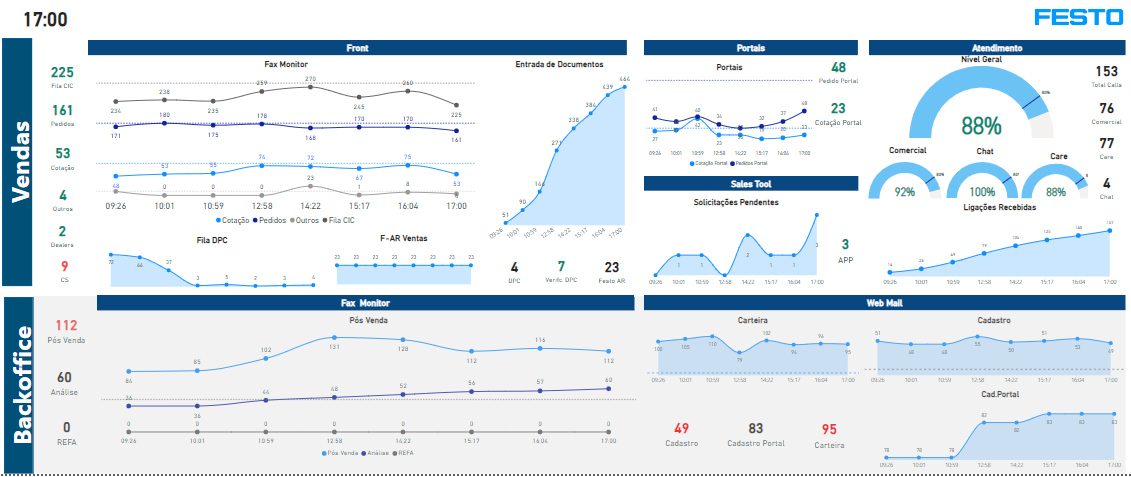

This screenshot's page, from the dashboard's own definition file:
{"tool":"powerbi","page":{"name":"Fila de Hora em Hora","canvas":[1280,970],"ordinal":0},"visuals":[{"type":"shape","box":[656.2,0,623.8,377.7],"z":0},{"type":"shape","box":[660.6,360.1,618.8,609.9],"z":1000},{"type":"shape","box":[665.8,0,614.2,378.1],"z":2000},{"type":"lineChart","fields":{"Y":["Sum(Filas por Hora.Pedidos)","Sum(Filas por Hora.Cotacao)","Sum(Filas por Hora.Outros)","Sum(Filas por Hora.CC Fila)"],"Category":["Filas por Hora.Horas"]},"box":[10.3,220.6,646.5,300.6],"z":3000},{"type":"gauge","title":"Nível Geral","fields":{"Y":["Sum(Fila Medidas.Nivel - CC)"],"TargetValue":["Fila Medidas.Meta Nivel"]},"box":[511.4,844.3,144.3,117.1],"z":4000},{"type":"gauge","title":"Comercial","fields":{"Y":["Sum(Fila Medidas.Nivel - Commercial)"],"TargetValue":["Fila Medidas.Meta Nivel"]},"box":[362.9,844.3,144.3,117.1],"z":5000},{"type":"gauge","title":"Care","fields":{"Y":["Sum(Fila Medidas.Nivel - Care)"],"TargetValue":["Fila Medidas.Meta Nivel"]},"box":[511,720,144.5,120],"z":6000},{"type":"card","title":"Ligações","fields":{"Values":["Sum(Fila Medidas.Ligacoes Recebidas)"]},"box":[362.9,720,144.3,120],"z":7000},{"type":"areaChart","title":"Cadastro","fields":{"Category":["Filas por Hora.Horas"],"Y":["Sum(Filas por Hora.Cadastro)"]},"box":[959.9,788.7,308.1,172.4],"z":8000},{"type":"stackedAreaChart","title":"Pós vendas","fields":{"Category":["Filas por Hora.Horas"],"Y":["Sum(Filas por Hora.Pos Venda)"]},"box":[959.9,603.6,308.1,181.3],"z":9000},{"type":"textbox","box":[10.3,10.3,646.5,59.4],"z":10000},{"type":"textbox","box":[665.8,10.3,606.5,58.1],"z":11000},{"type":"textbox","box":[10.3,669.7,646.5,45.2],"z":12000},{"type":"areaChart","title":"CS","fields":{"Category":["Filas por Hora.Horas"],"Y":["Sum(Filas por Hora.CS)"]},"box":[665.7,788.6,290,172.9],"z":13000},{"type":"areaChart","title":"Entrada de ligações","fields":{"Category":["Filas por Hora.Horas"],"Y":["Sum(Filas por Hora.Ligacoes Recebidas)"]},"box":[10,720,351.4,241.4],"z":14000},{"type":"lineChart","title":"Pedidos de portal","fields":{"Category":["Filas por Hora.Horas"],"Y":["Sum(Filas por Hora.Pedidos Portal)","Sum(Filas por Hora.Cotacoes Portal)","Sum(Filas por Hora.Cad. Portal)"]},"box":[665.8,122.6,490.3,247.7],"z":15000},{"type":"areaChart","title":"Entrada de documentos","fields":{"Category":["Filas por Hora.Horas"],"Y":["Sum(Filas por Hora.Entrada de Doc)"]},"box":[10.3,535.5,646.5,122.6],"z":16000},{"type":"card","fields":{"Values":["Min(Fila Medidas.Horas)"]},"box":[10,10,121.4,59.8],"z":17000},{"type":"card","fields":{"Values":["Sum(Fila Medidas.Pedidos)"]},"box":[10.3,120,78.7,85.2],"z":18000},{"type":"card","fields":{"Values":["Sum(Fila Medidas.Cotacao)"]},"box":[89,120,80,85.2],"z":19000},{"type":"card","fields":{"Values":["Sum(Fila Medidas.Outros)"]},"box":[169,120,76.1,85.2],"z":20000},{"type":"card","fields":{"Values":["Sum(Fila Medidas.Verificacao DPC)"]},"box":[391,120,99.4,85.2],"z":21000},{"type":"card","fields":{"Values":["Sum(Fila Medidas.Pedidos Portal)"]},"box":[1163.2,122.8,104.6,77.3],"z":22000},{"type":"card","fields":{"Values":["Sum(Fila Medidas.CC Fila)"]},"box":[561.3,122.6,90.3,82.6],"z":23000},{"type":"card","fields":{"Values":["Sum(Fila Medidas.Cotacoes Portal)"]},"box":[1163.2,204.7,104.6,78.9],"z":24000},{"type":"card","fields":{"Values":["Sum(Fila Medidas.Pos Venda)"]},"box":[785.8,454.2,125.2,96.8],"z":25000},{"type":"card","fields":{"Values":["Sum(Fila Medidas.Cadastro)"]},"box":[911,454.2,117.4,96.8],"z":26000},{"type":"textbox","box":[10.3,74.8,646.5,40],"z":27000},{"type":"areaChart","title":"Fila DPC","fields":{"Category":["Filas por Hora.Horas"],"Y":["Sum(Filas por Hora.DPC)"]},"box":[665.7,603.6,290.4,182.6],"z":28000},{"type":"card","fields":{"Values":["Sum(Fila Medidas.Dealers)"]},"box":[309.7,120,85.2,85.2],"z":29000},{"type":"textbox","box":[665.8,389.7,603.9,59.4],"z":30000},{"type":"card","fields":{"Values":["Sum(Fila Medidas.Carteira)"]},"box":[665.8,454.2,120,96.8],"z":31000},{"type":"textbox","box":[665.8,554.8,603.9,43.9],"z":32000},{"type":"card","fields":{"Values":["Sum(Fila Medidas.FAX Portais)"]},"box":[1144.5,454.2,122.6,96.8],"z":33000},{"type":"card","fields":{"Values":["Sum(Fila Medidas.DPC)"]},"box":[490.3,122.6,82.6,82.6],"z":34000},{"type":"textbox","box":[665.8,74.8,606.5,45.2],"z":35000},{"type":"card","fields":{"Values":["Sum(Fila Medidas.Cad. Portal)"]},"box":[1163.2,289.7,104.6,80.4],"z":36000},{"type":"card","fields":{"Values":["Sum(Fila Medidas.CS)"]},"box":[245.2,120,76.1,85.2],"z":37000},{"type":"card","fields":{"Values":["Sum(Fila Medidas.Analise 2203)"]},"box":[1029.7,454.2,113.5,96.8],"z":38000}]}

Visuals, with their boxes on the page's 1280x970 design canvas (x1, y1, x2, y2). These are canvas units, not pixel positions in the 1131x477 screenshot, which may show the page scaled, cropped or inside an application window:
shape: Rect(656, 0, 1280, 378)
shape: Rect(661, 360, 1279, 970)
shape: Rect(666, 0, 1280, 378)
lineChart - Sum(Filas por Hora.Pedidos) x Sum(Filas por Hora.Cotacao): Rect(10, 221, 657, 521)
"Nível Geral" gauge: Rect(511, 844, 656, 961)
"Comercial" gauge: Rect(363, 844, 507, 961)
"Care" gauge: Rect(511, 720, 656, 840)
"Ligações" card: Rect(363, 720, 507, 840)
"Cadastro" areaChart: Rect(960, 789, 1268, 961)
"Pós vendas" stackedAreaChart: Rect(960, 604, 1268, 785)
textbox: Rect(10, 10, 657, 70)
textbox: Rect(666, 10, 1272, 68)
textbox: Rect(10, 670, 657, 715)
"CS" areaChart: Rect(666, 789, 956, 962)
"Entrada de ligações" areaChart: Rect(10, 720, 361, 961)
"Pedidos de portal" lineChart: Rect(666, 123, 1156, 370)
"Entrada de documentos" areaChart: Rect(10, 536, 657, 658)
card - Min(Fila Medidas.Horas): Rect(10, 10, 131, 70)
card - Sum(Fila Medidas.Pedidos): Rect(10, 120, 89, 205)
card - Sum(Fila Medidas.Cotacao): Rect(89, 120, 169, 205)
card - Sum(Fila Medidas.Outros): Rect(169, 120, 245, 205)
card - Sum(Fila Medidas.Verificacao DPC): Rect(391, 120, 490, 205)
card - Sum(Fila Medidas.Pedidos Portal): Rect(1163, 123, 1268, 200)
card - Sum(Fila Medidas.CC Fila): Rect(561, 123, 652, 205)
card - Sum(Fila Medidas.Cotacoes Portal): Rect(1163, 205, 1268, 284)
card - Sum(Fila Medidas.Pos Venda): Rect(786, 454, 911, 551)
card - Sum(Fila Medidas.Cadastro): Rect(911, 454, 1028, 551)
textbox: Rect(10, 75, 657, 115)
"Fila DPC" areaChart: Rect(666, 604, 956, 786)
card - Sum(Fila Medidas.Dealers): Rect(310, 120, 395, 205)
textbox: Rect(666, 390, 1270, 449)
card - Sum(Fila Medidas.Carteira): Rect(666, 454, 786, 551)
textbox: Rect(666, 555, 1270, 599)
card - Sum(Fila Medidas.FAX Portais): Rect(1144, 454, 1267, 551)
card - Sum(Fila Medidas.DPC): Rect(490, 123, 573, 205)
textbox: Rect(666, 75, 1272, 120)
card - Sum(Fila Medidas.Cad. Portal): Rect(1163, 290, 1268, 370)
card - Sum(Fila Medidas.CS): Rect(245, 120, 321, 205)
card - Sum(Fila Medidas.Analise 2203): Rect(1030, 454, 1143, 551)
